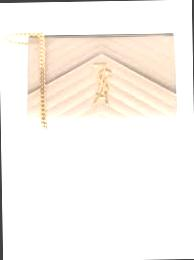YVES-SAINT-LAURENT: (90, 61, 112, 103)
